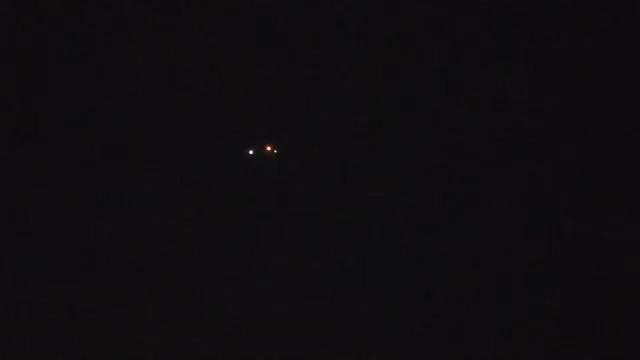Plane: (229, 137, 300, 164)
